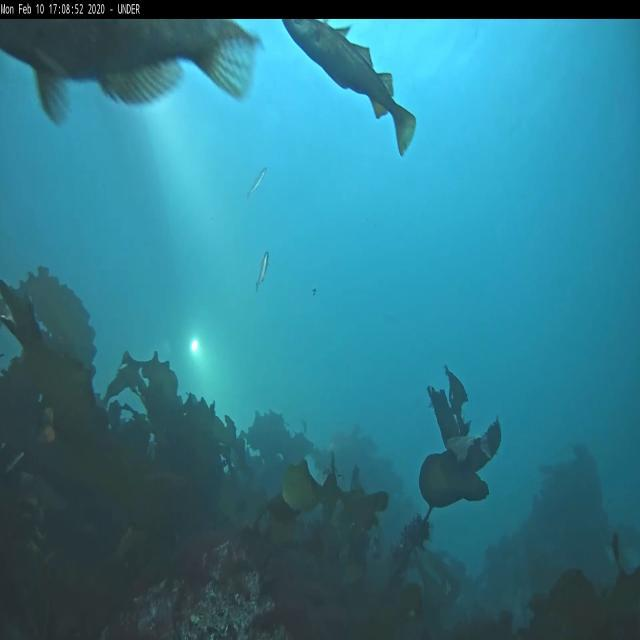fish: (0, 20, 264, 126), (282, 20, 416, 160), (248, 168, 267, 197), (256, 253, 270, 291)
